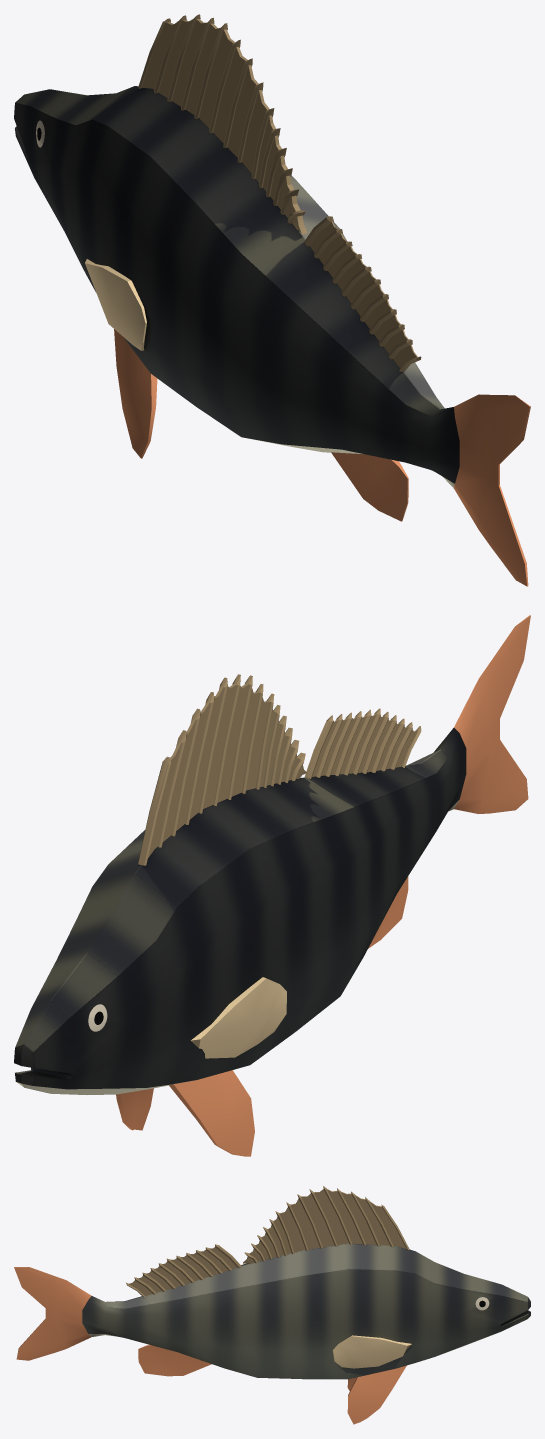
File: okon2.fbx
3 views of the same model, one above another, from view 1: azimuth 30°, elevation 25°; view 2: azimuth 150°, elevation 25°; view 3: azimuth 270°, elevation 25° (orthographic). The views are drawn at different scales.
Visible parts, largest first — view 1: Cube, Plane.006; view 2: Cube, Plane.006; view 3: Cube, Plane.006.
Part boxes in pixels (box(x1,y1,x2,y2)): Cube: box(14, 86, 530, 586); Plane.006: box(85, 14, 421, 521); Cube: box(14, 615, 530, 1094); Plane.006: box(116, 674, 421, 1156); Cube: box(14, 1243, 530, 1379); Plane.006: box(126, 1186, 411, 1424).
Bounding box in the file's own units: 145 × 425 × 882.
